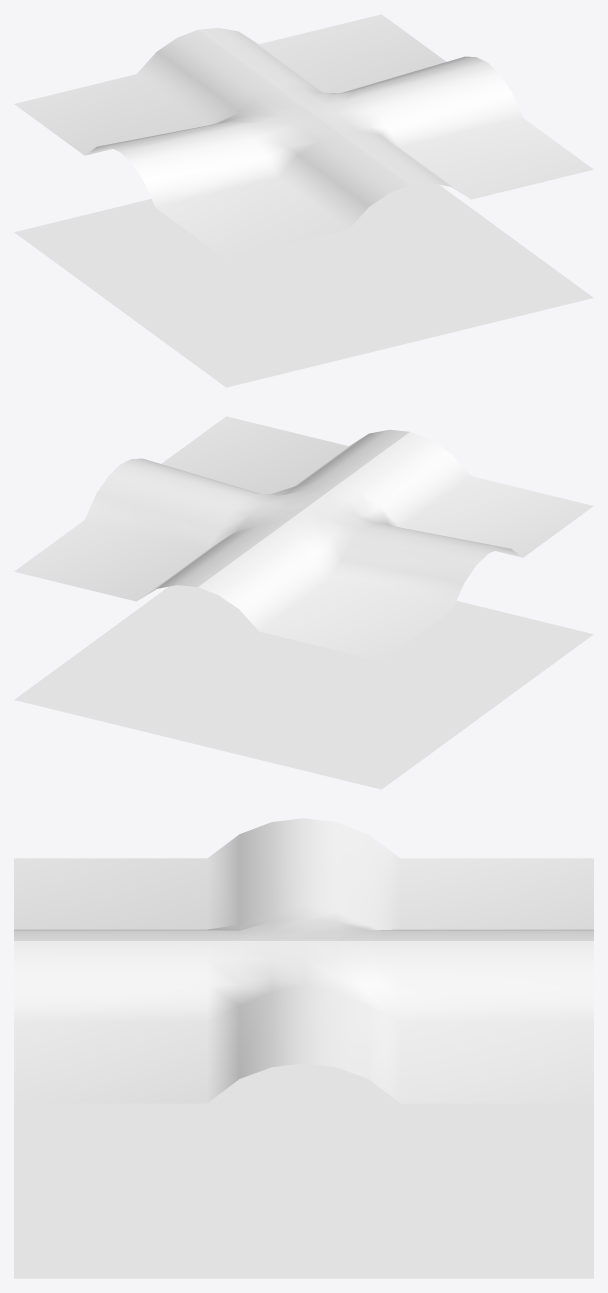
File: 4wayIntersection.fbx
3 renders of one model, top to bottom at view 1: azimuth 30°, elevation 25°; view 2: azimuth 150°, elevation 25°; view 3: azimuth 270°, elevation 25°, orthographic. The views are drawn at different scales.
Visible parts, largest first — view 1: pPlane8; view 2: pPlane8; view 3: pPlane8.
Part boxes in pixels (x1=…): pPlane8: x1=14, y1=14, x2=593, y2=387; pPlane8: x1=14, y1=416, x2=593, y2=789; pPlane8: x1=14, y1=818, x2=593, y2=1278.
Size of the model in its own units: 1500 by 615 by 1500.
